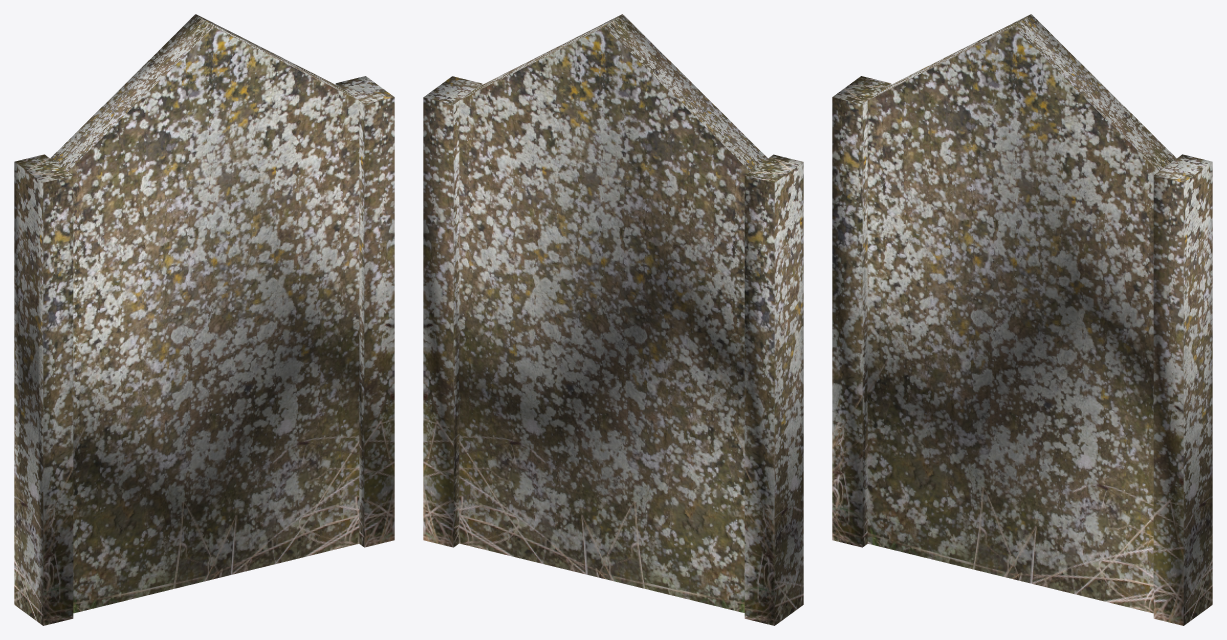
File: gravestoneD.fbx
3 views of the same model, side by side, from view 1: azimuth 30°, elevation 25°; view 2: azimuth 150°, elevation 25°; view 3: azimuth 330°, elevation 25° (orthographic).
Visible parts, largest first — view 1: U3DMesh; view 2: U3DMesh; view 3: U3DMesh.
Boxes of the visible parts, x1,y1,x2,y2 form: U3DMesh: [14, 14, 394, 625]; U3DMesh: [423, 14, 803, 625]; U3DMesh: [832, 14, 1212, 625].
Size of the model in its own units: 33.32 by 50.04 by 4.75.
